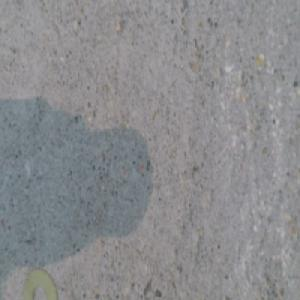Washer: (22, 268, 59, 299)
